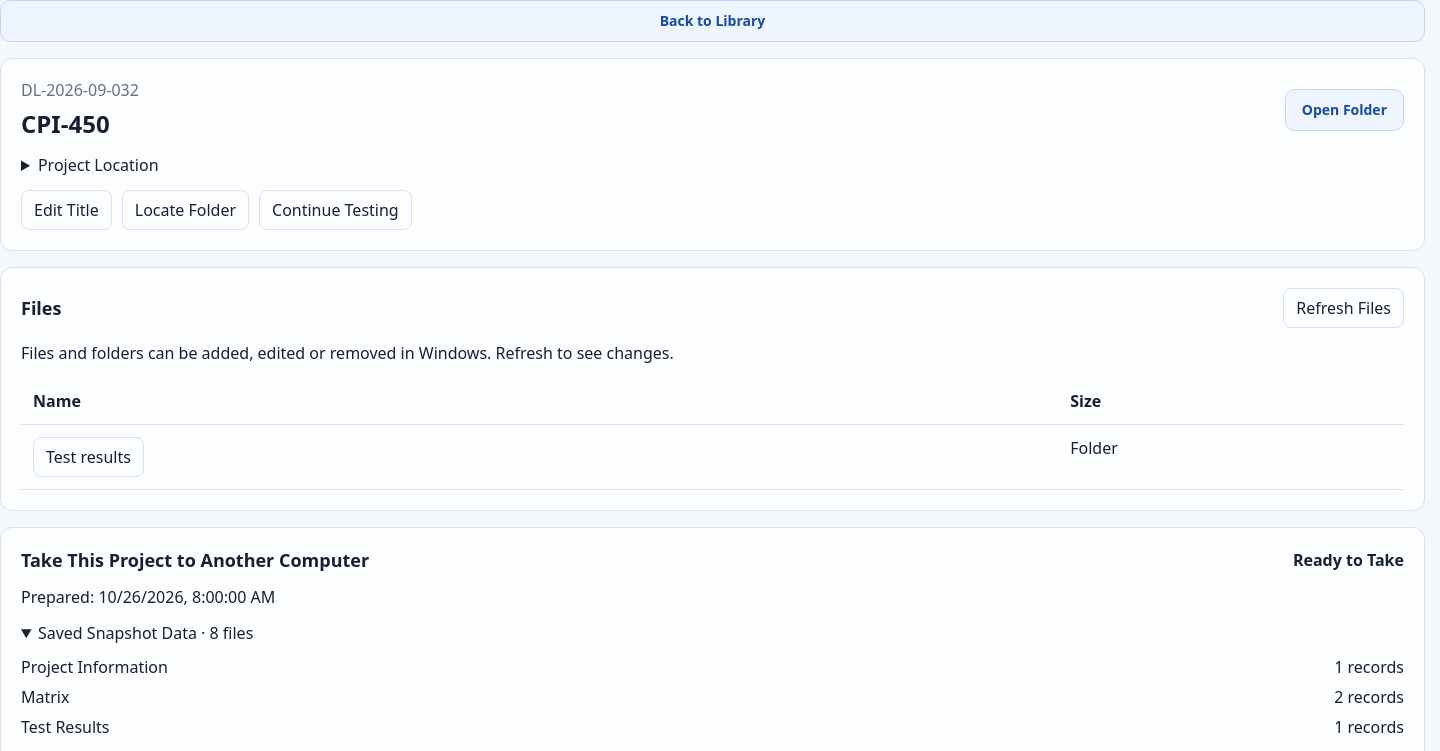
Test: Library project management › refreshes snapshot coverage and file browsing after a confirmed title change
Check: the text "Ready to Take" is shown, box [1293, 549, 1404, 571]
Click the button "Edit Title". click: (66, 210)
box: [21, 190, 112, 230]
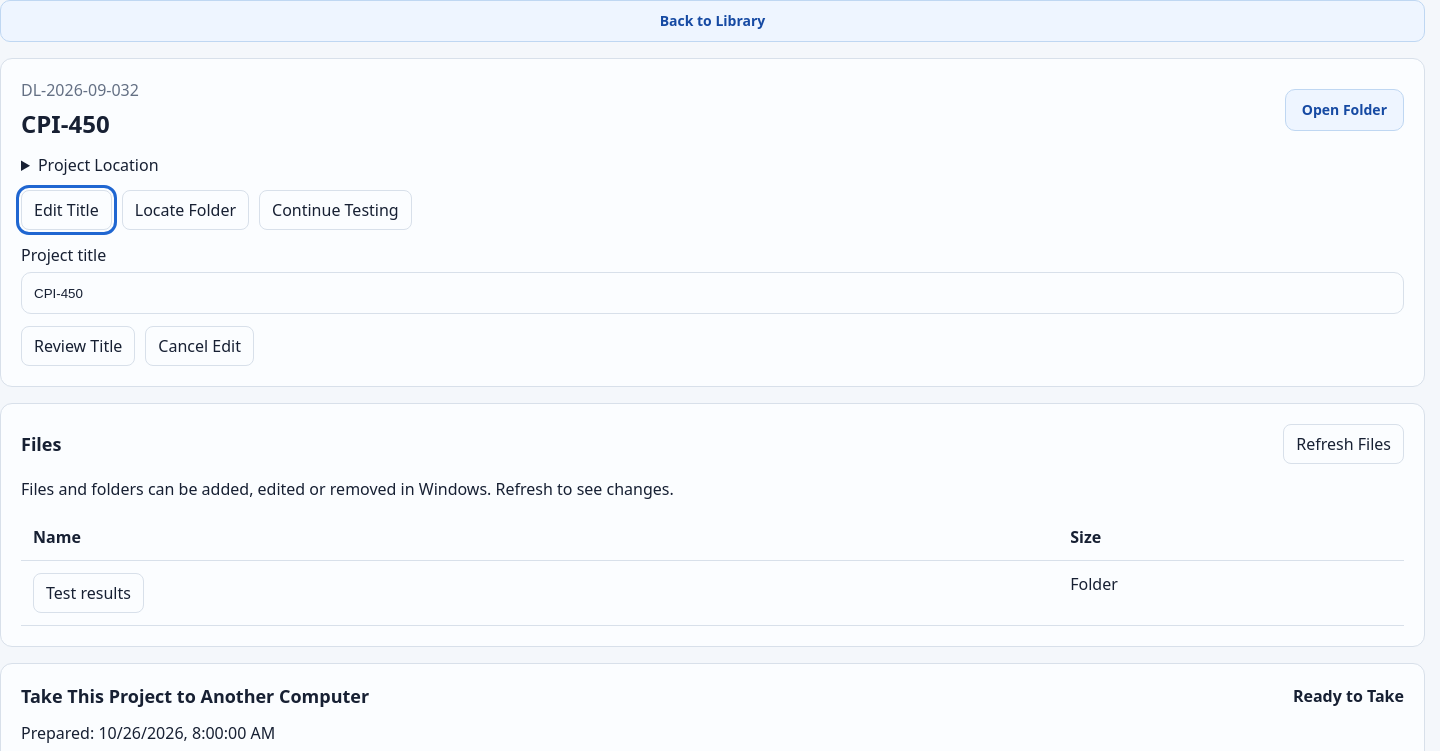
Replace the text in the field with "Revised". click: (712, 293)
box: [21, 272, 1404, 314]
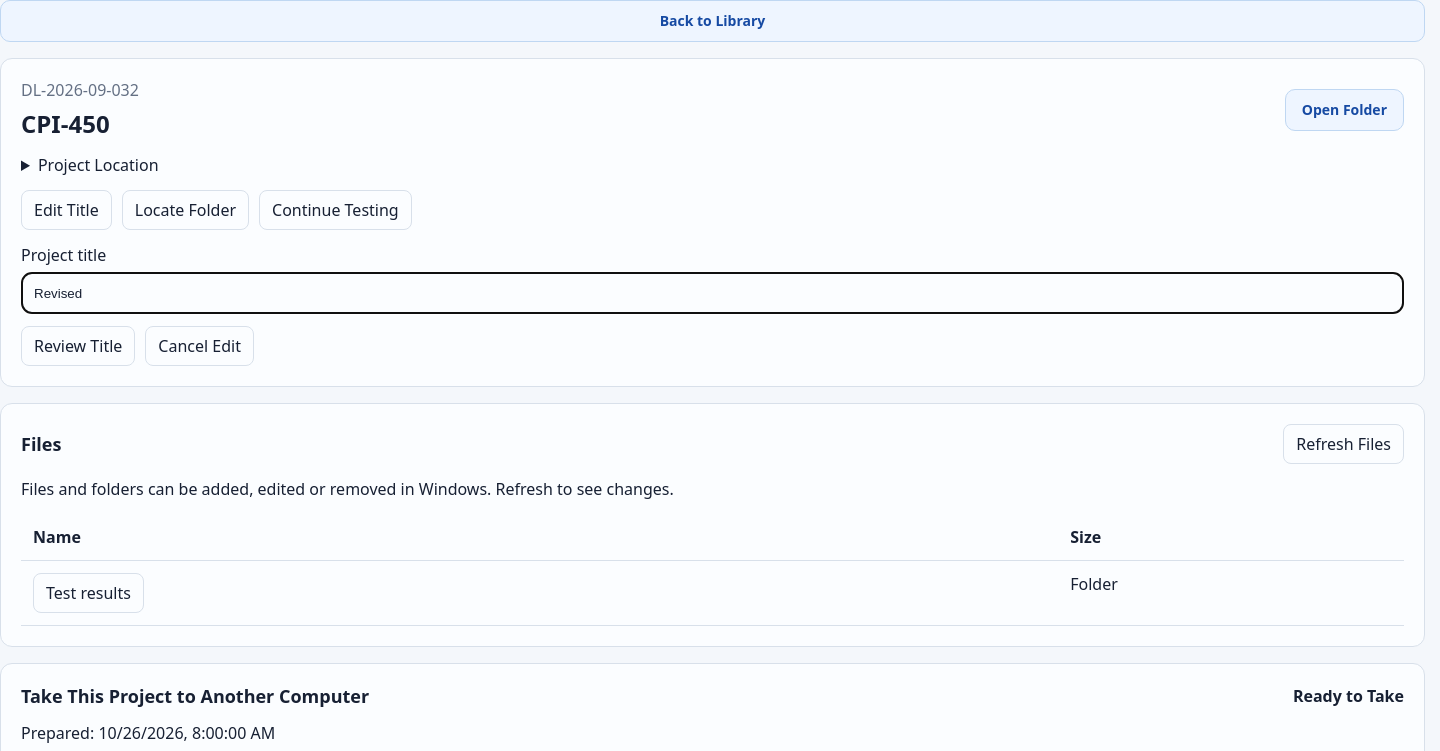
Click the button "Review Title". click: (78, 346)
box: [21, 326, 135, 366]
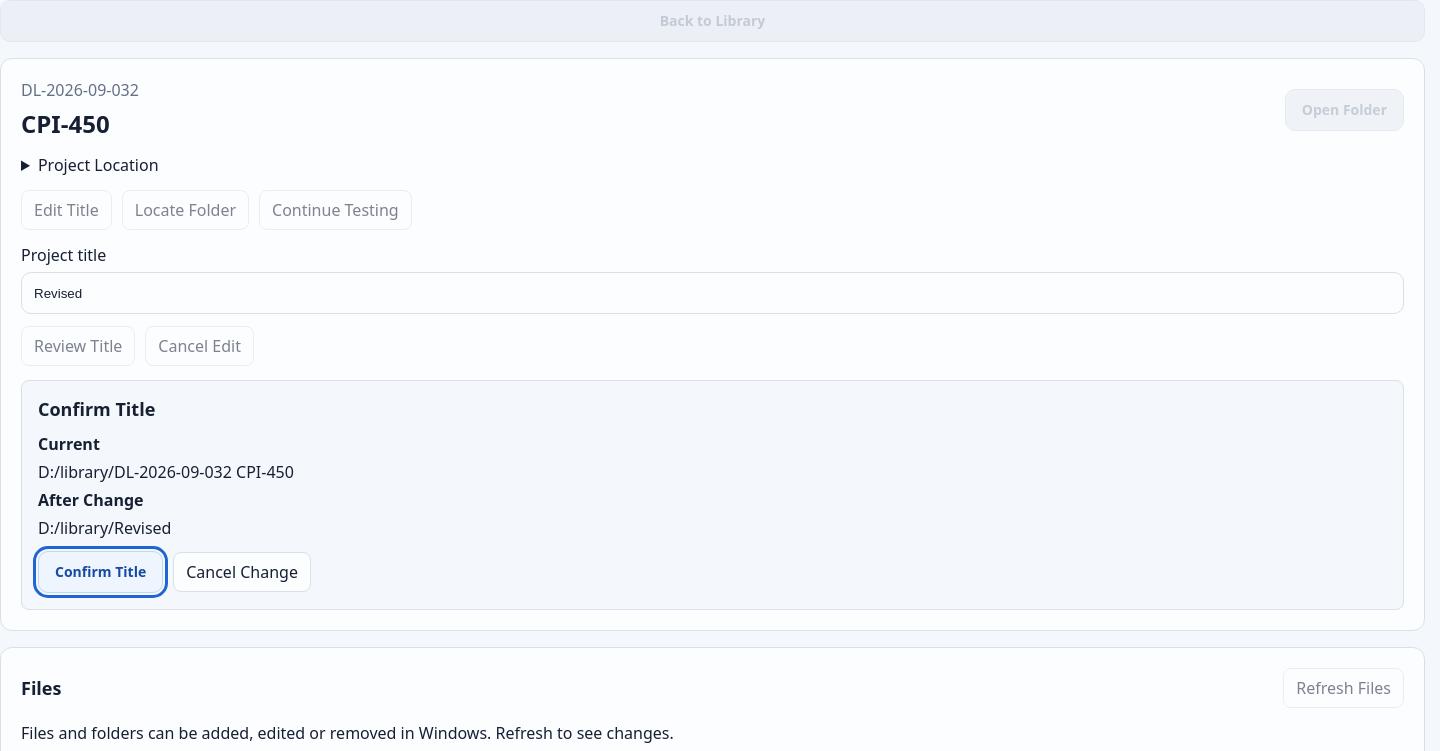
Click the button "Confirm Title". click: (101, 572)
box: [38, 551, 163, 593]
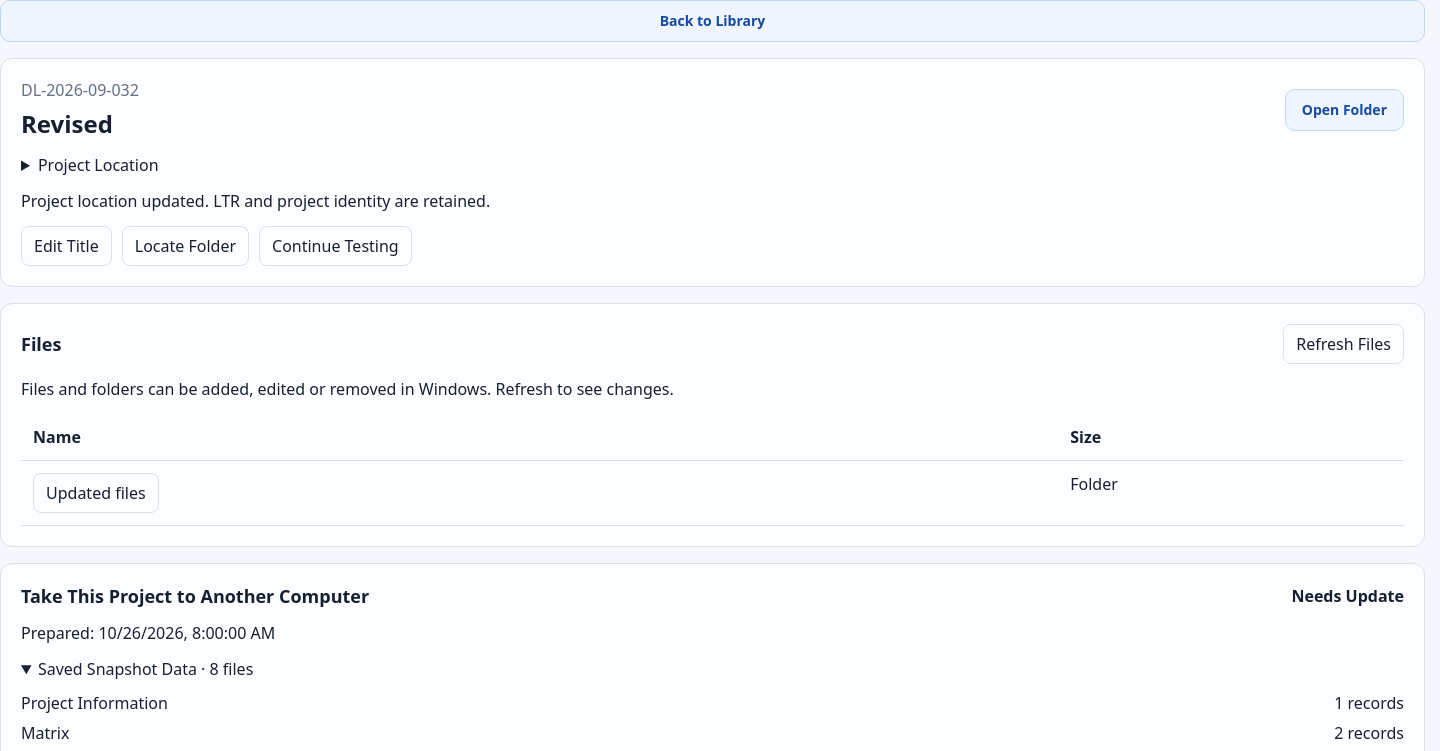
Check: the text "Needs Update" is shown, box [1291, 585, 1404, 607]
Check: the button "Updated files" is shown, box [33, 473, 159, 513]
